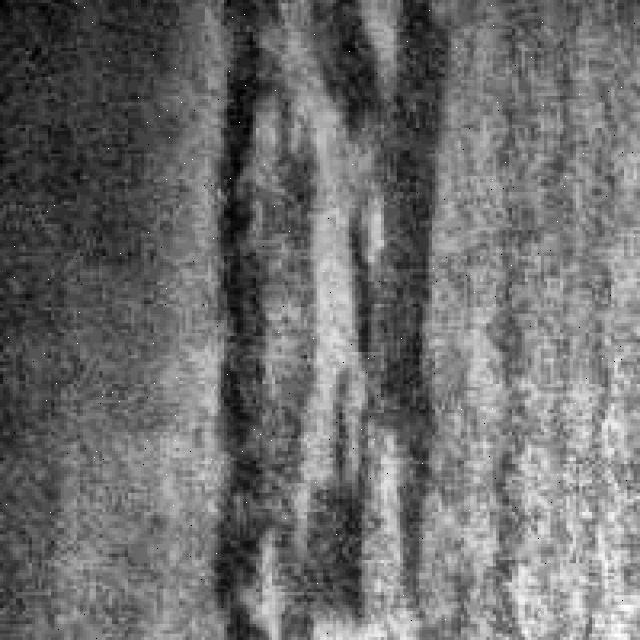Patches: (218, 0, 444, 637)
